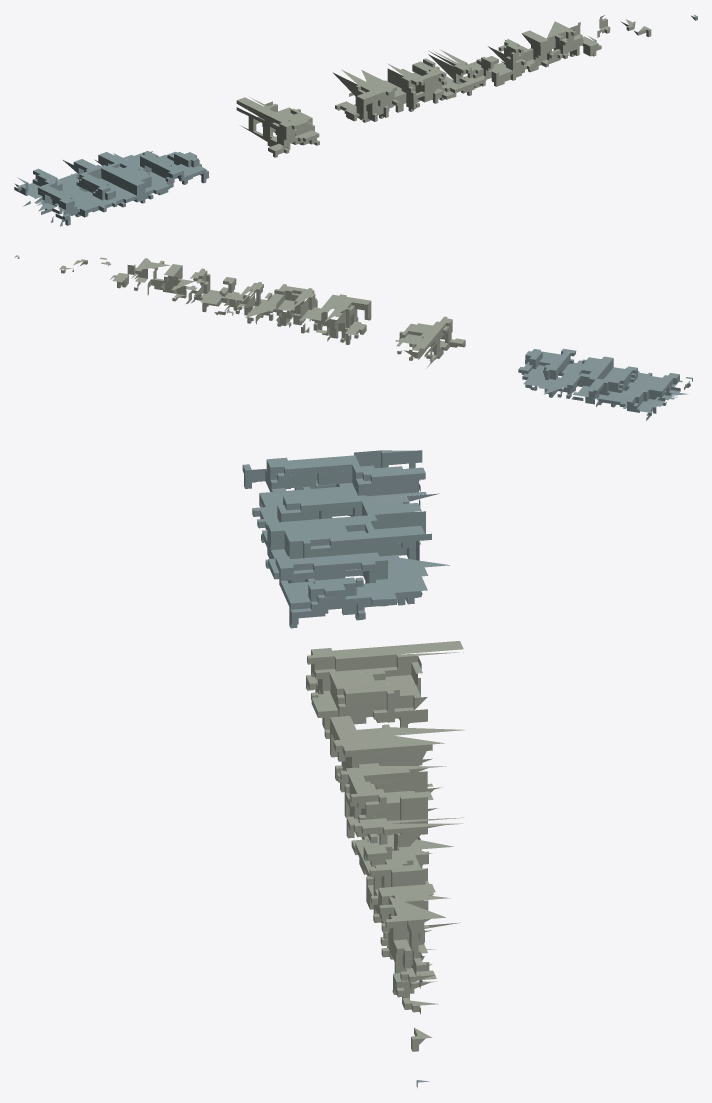
3 views of the same model, one above another, from view 1: azimuth 30°, elevation 25°; view 2: azimuth 150°, elevation 25°; view 3: azimuth 270°, elevation 25° (orthographic). The views are drawn at different scales.
Parts seen in each view (by area): view 1: measured-industrial; view 2: measured-industrial; view 3: measured-industrial.
Part boxes in pixels (bbox=[...]): measured-industrial: bbox=[14, 14, 697, 226]; measured-industrial: bbox=[14, 255, 692, 420]; measured-industrial: bbox=[242, 450, 464, 1087].
Bounding box in the file's own units: 219 × 10.9 × 33.13.
